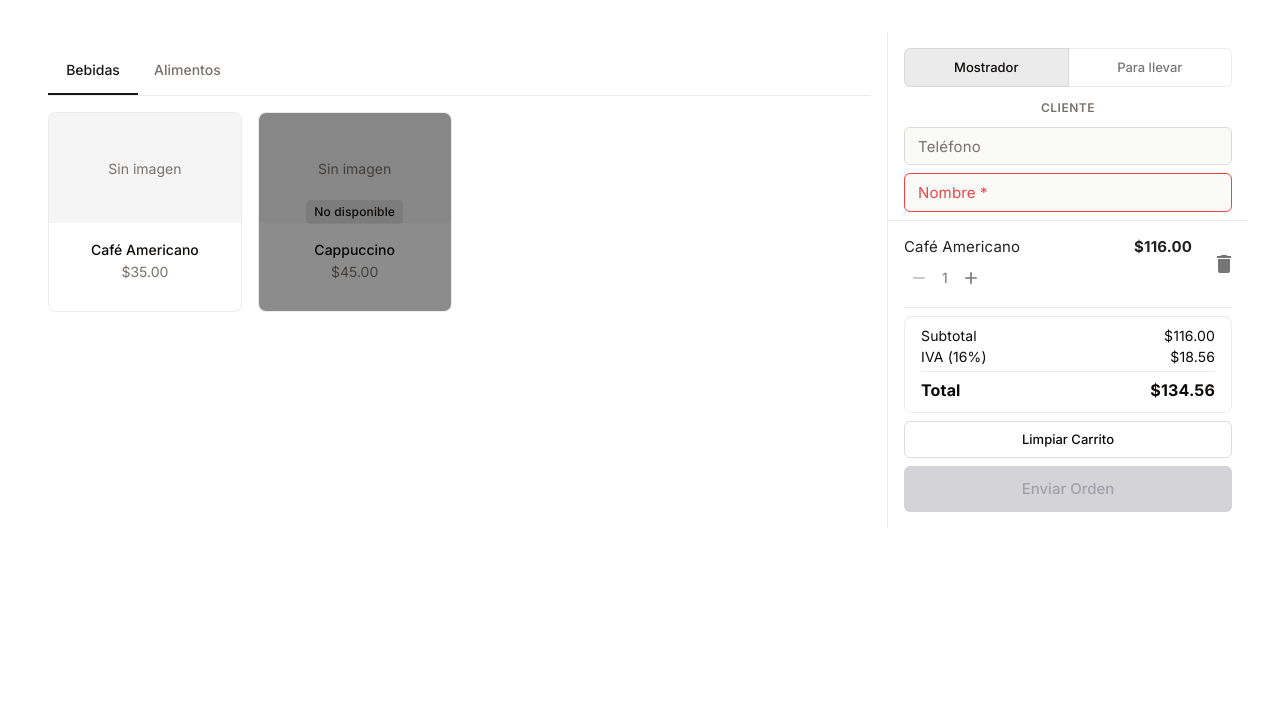
Test: CashierPos — autorellenar cliente por teléfono › autorellenar nombre al clickear "Usar estos datos"
In the field named "teléfono del cliente": coordinates (1068, 146) [904,127,1232,165], type "555"
Wait 300 ms
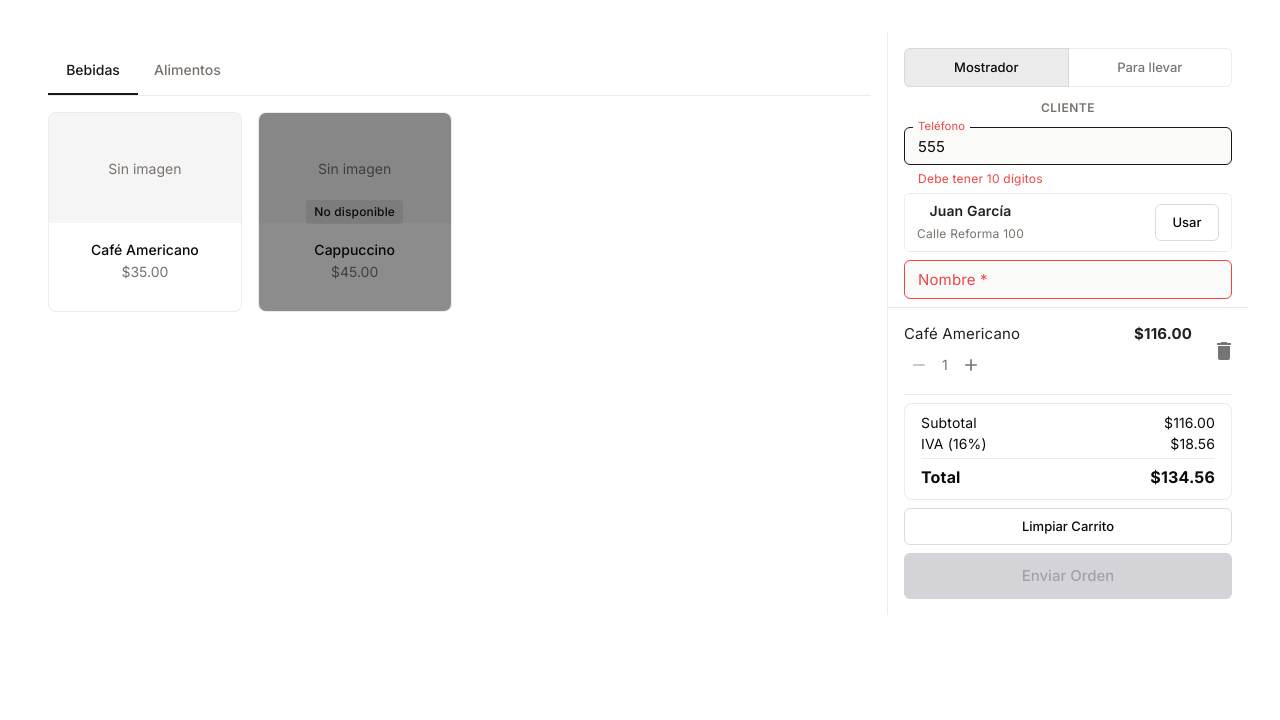
Expected: the text "Juan García" is shown, [929,202,1012,219]
Click the button with aria-label "usar datos de juan garcía": coordinates (1187, 223) [1155,204,1219,241]
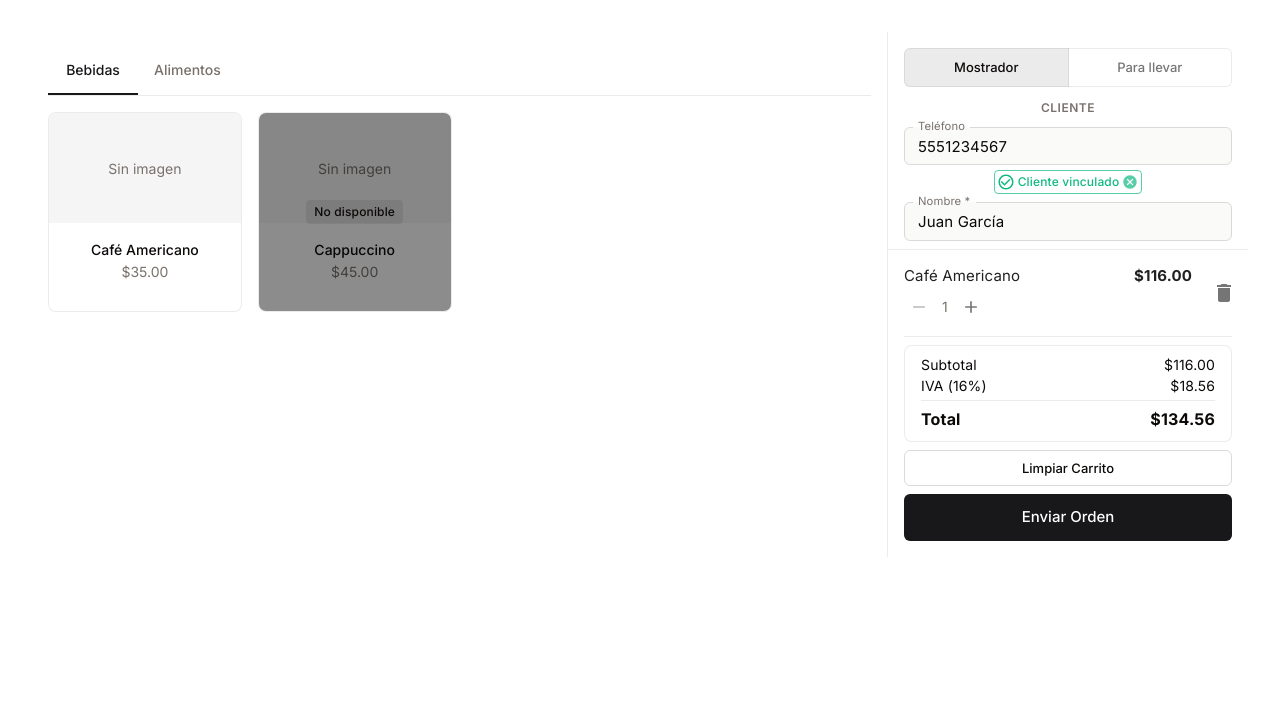
Expected: the field named "nombre del cliente" holds "Juan García", [904,202,1232,241]
Expected: the text "Cliente vinculado" is shown, [1011,173,1126,191]
